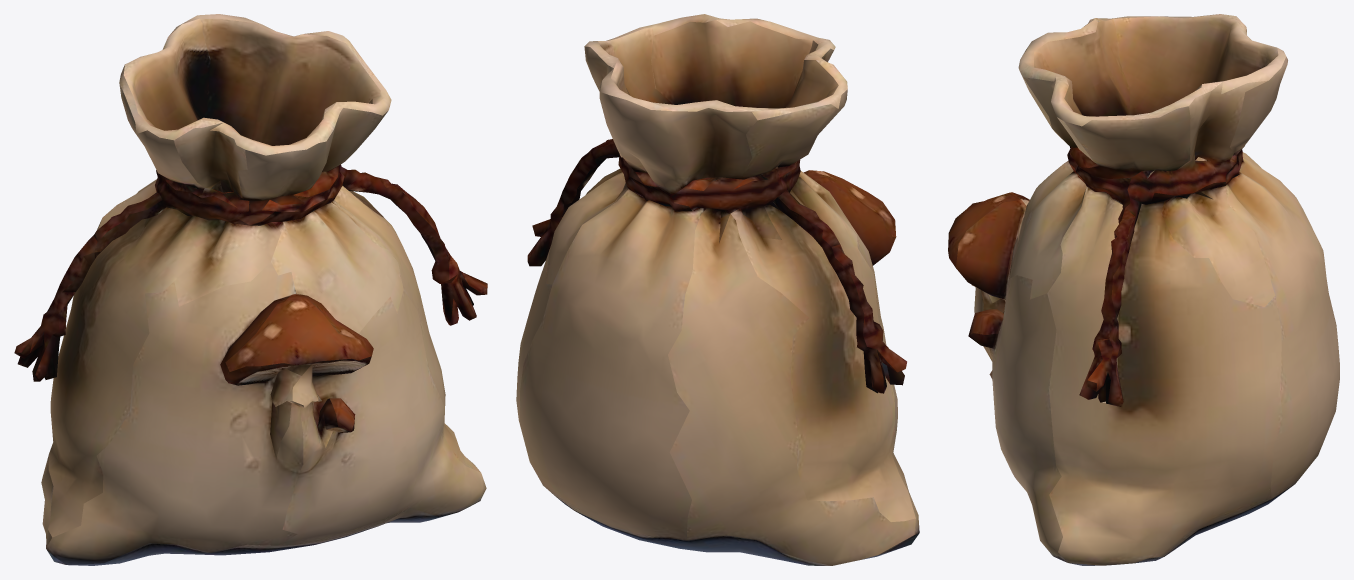
Rendered from spore_bag.glb.
The picture shows the model from 3 angles, left to right: view 1: azimuth 30°, elevation 25°; view 2: azimuth 150°, elevation 25°; view 3: azimuth 270°, elevation 25°; orthographic projection. The views are drawn at different scales.
Parts seen in each view (by area): view 1: spore_bag; view 2: spore_bag; view 3: spore_bag.
Part boxes in pixels (box(x1,y1,x2,y2)): spore_bag: box(14, 14, 487, 565); spore_bag: box(516, 14, 919, 565); spore_bag: box(948, 14, 1339, 565).
Bounding box in the file's own units: 0.9714 × 1 × 0.805.
Materials: 1 (1 with a texture image).
